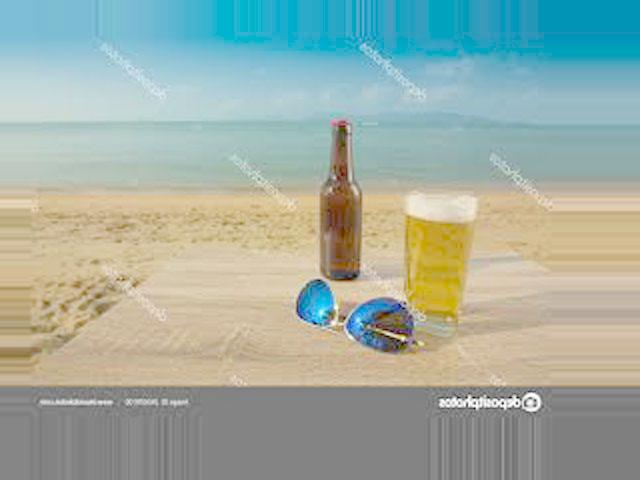beer: (319, 119, 361, 279)
